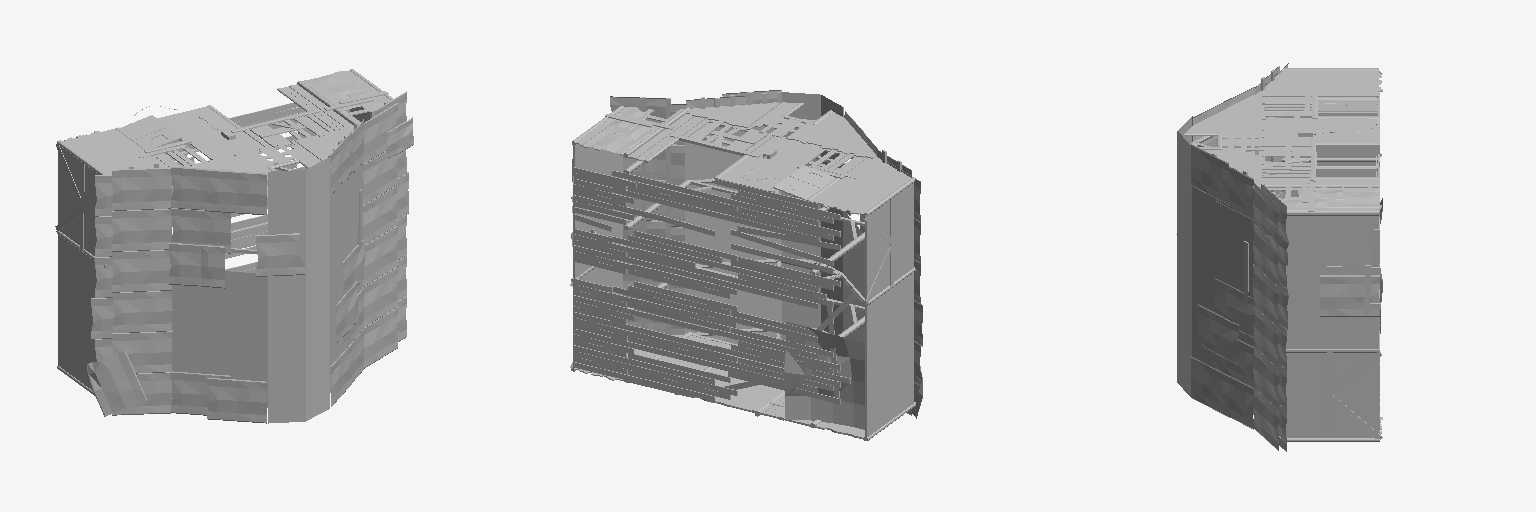
File: barn.obj
3 views of the same model, side by side, from view 1: azimuth 30°, elevation 25°; view 2: azimuth 150°, elevation 25°; view 3: azimuth 270°, elevation 25° (orthographic).
Parts seen in each view (by area): view 1: Object002_Untitled; view 2: Object002_Untitled; view 3: Object002_Untitled.
Boxes of the visible parts, x1,y1,x2,y2 form: Object002_Untitled: [55, 69, 413, 423]; Object002_Untitled: [570, 90, 922, 440]; Object002_Untitled: [1176, 63, 1382, 451].
Size of the model in its own units: 16.62 by 12.52 by 9.2.